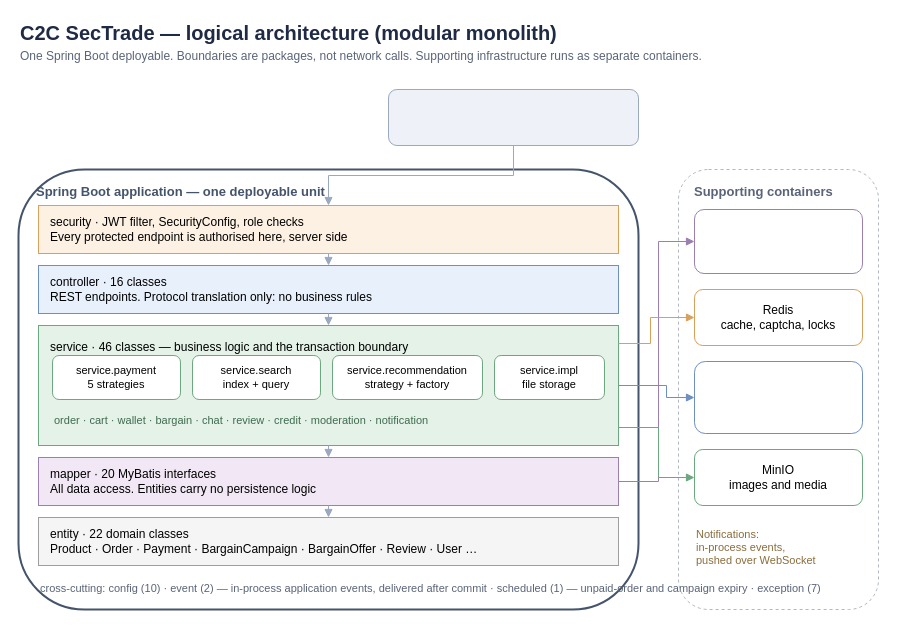
Some shapes in this 909 by 627 pixel diagram are drawn without their labels. Here are the shapes that lost their labels. From the top down, the centre of each, then its label:
the point at 513,117: Browser — Vue 3 SPA served by nginx (own container)
the point at 778,241: MySQL business records of record
the point at 778,397: Elasticsearch search index — a read model, rebuildable from MySQL
